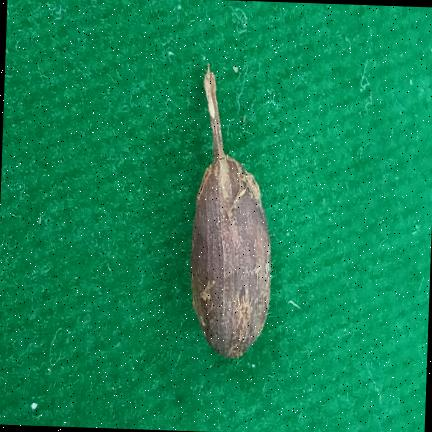full-black: (191, 64, 271, 358)
